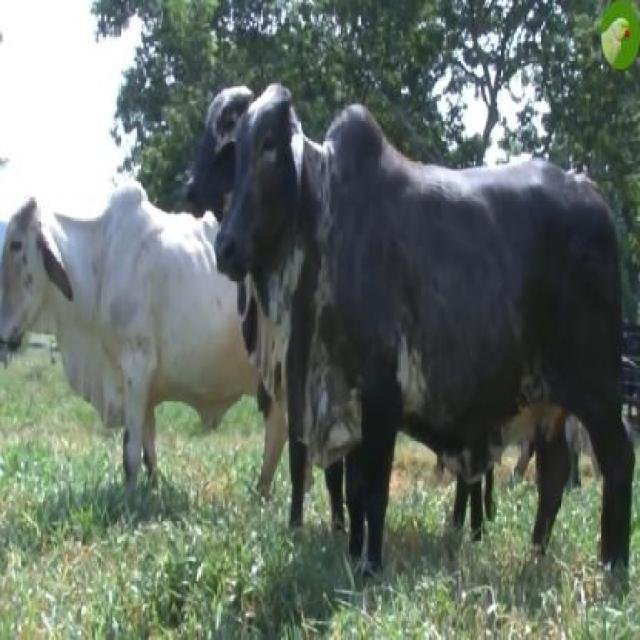Cow: (217, 86, 635, 592)
